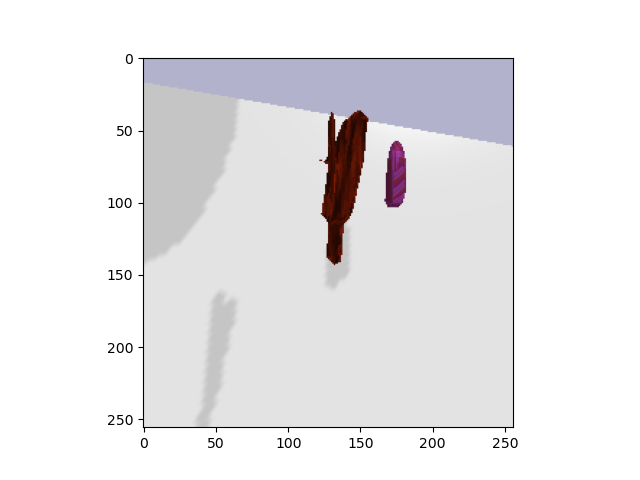v249b387_105: (381, 139, 413, 216)
v249b387_107: (318, 105, 375, 268)
